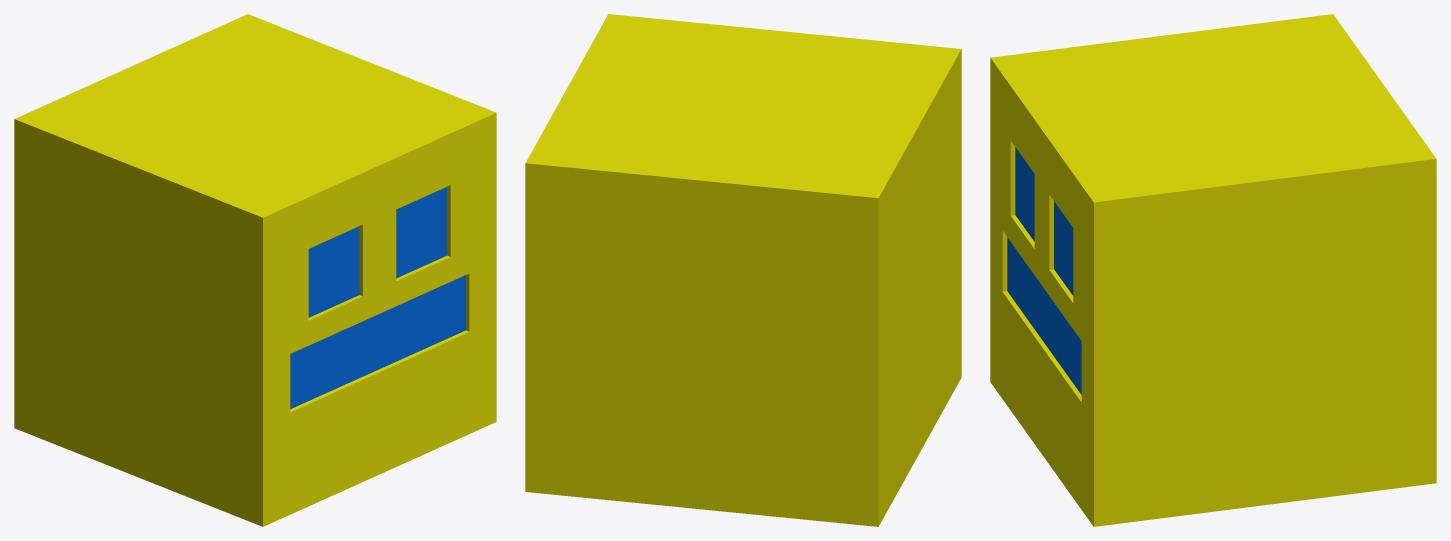
Rendered from cha_3.glb.
3 views of the same model, side by side, from view 1: azimuth 30°, elevation 25°; view 2: azimuth 150°, elevation 25°; view 3: azimuth 270°, elevation 25° (orthographic). The views are drawn at different scales.
Parts seen in each view (by area): view 1: cubo; view 2: cubo; view 3: cubo.
Part boxes in pixels (x1,y1,x2,y2): cubo: (14, 14, 496, 526); cubo: (525, 14, 961, 526); cubo: (990, 14, 1436, 526).
Size of the model in its own units: 2.49 by 2 by 2.49.
